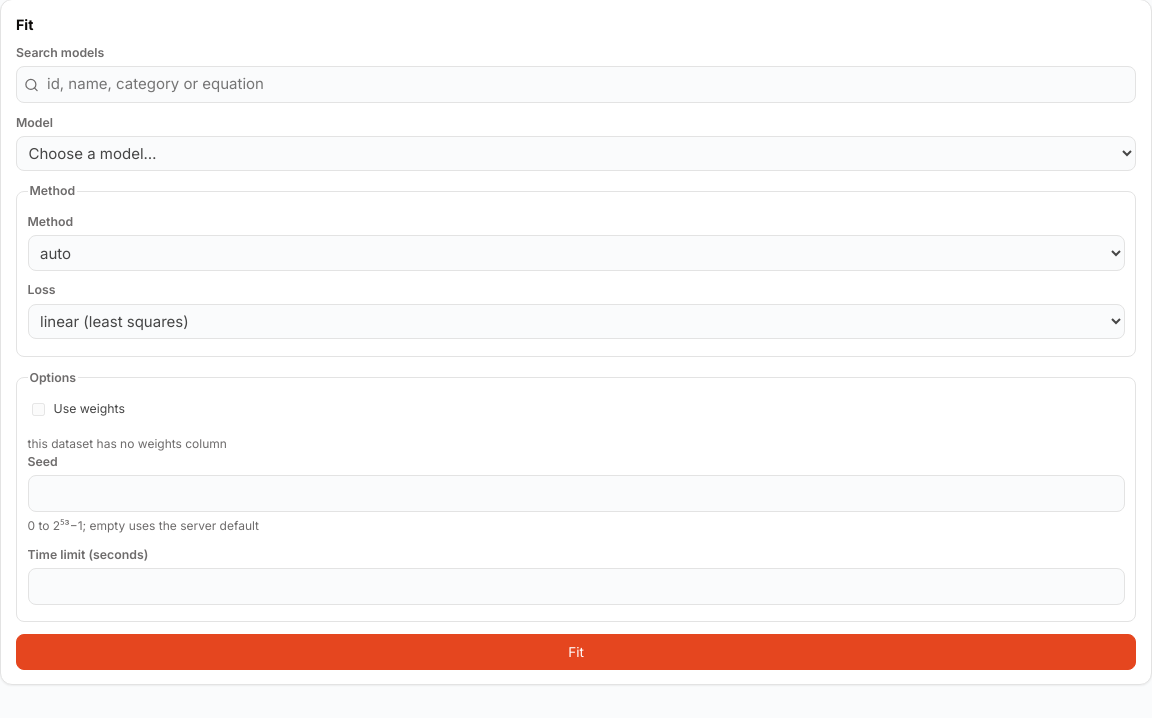
Test: FitPanel validation (mirrors the server contract) › rejects a polynomial degree outside 1..10 without submitting
Select "Polynomial (degree 1–10)" in the dropdown labelled "Model". click: [576, 154]
box: [16,136,1136,171]
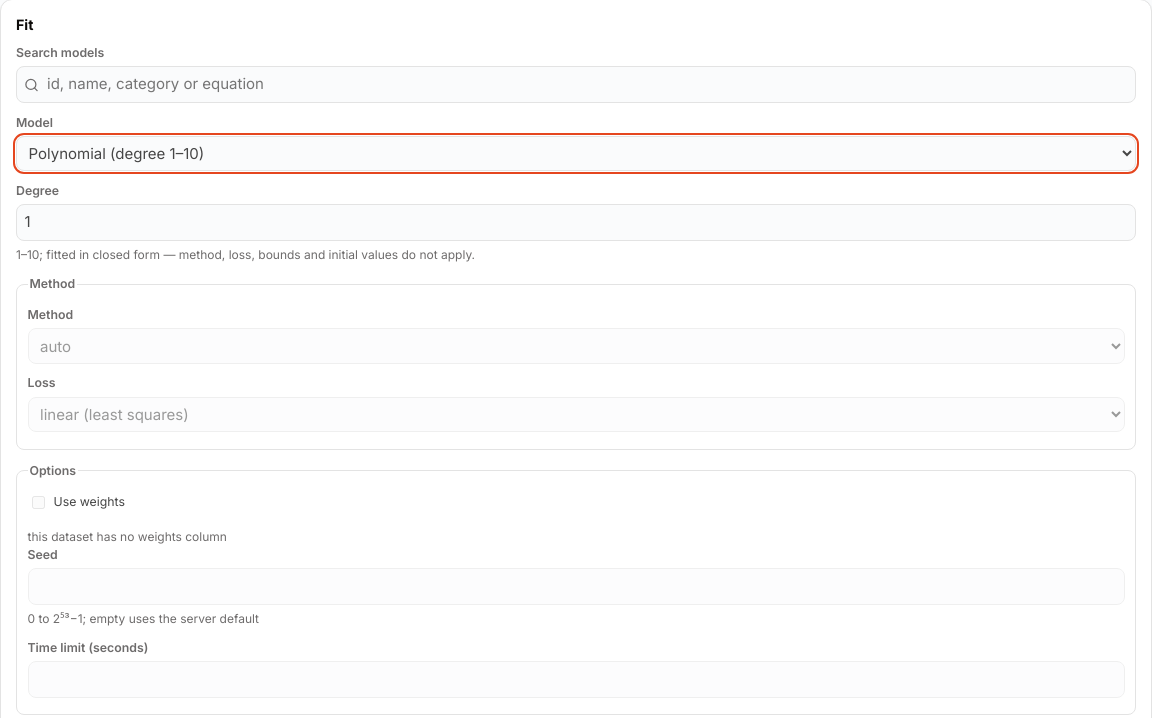
Replace the text in the number field labelled "Degree" with "11". click: [576, 223]
box: [16,204,1136,241]
(page scrolled)
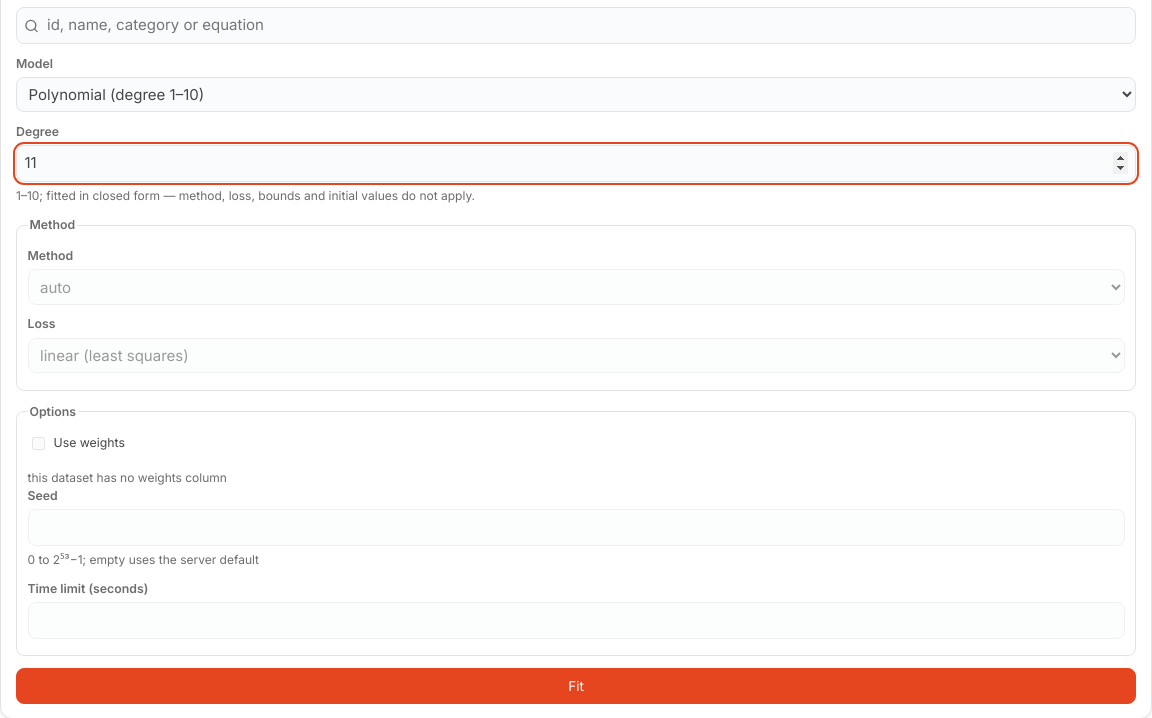
Click the button "Fit". click: [576, 686]
box: [16,668,1136,704]
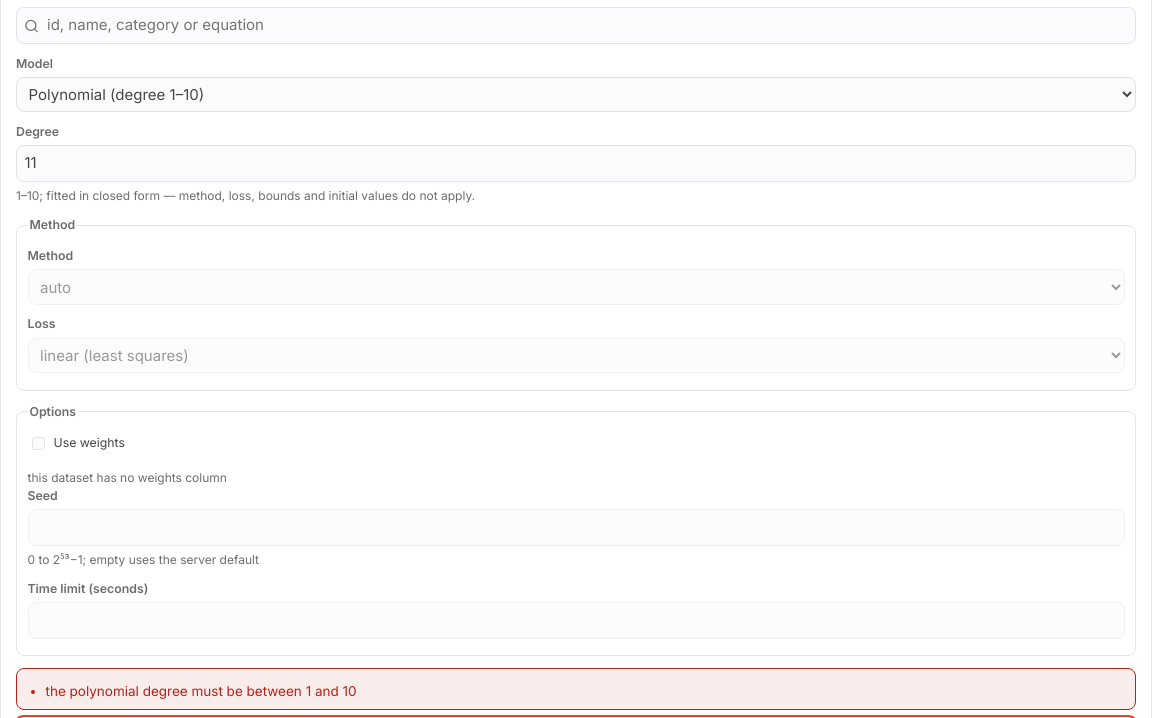
Now the message shows "degree", box [46,683,356,699]
